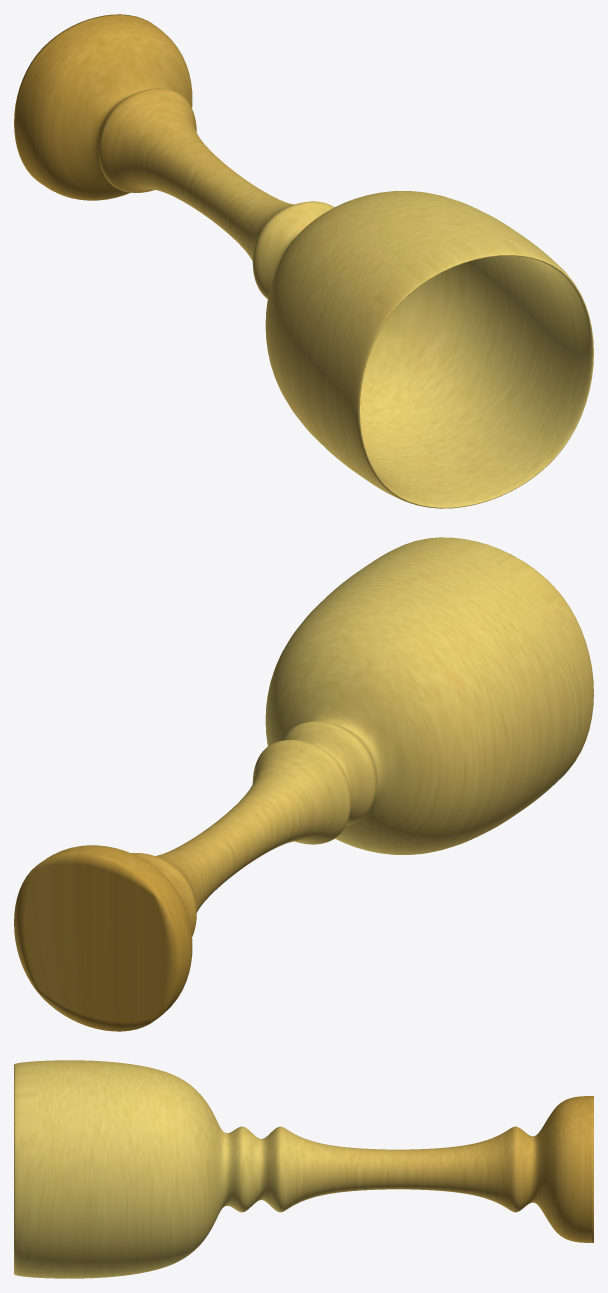
The model's file is Gablet.obj.
The picture shows the model from 3 angles, top to bottom: view 1: azimuth 30°, elevation 25°; view 2: azimuth 150°, elevation 25°; view 3: azimuth 270°, elevation 25°; orthographic projection. The views are drawn at different scales.
Visible parts, largest first — view 1: Goblet_Cube; view 2: Goblet_Cube; view 3: Goblet_Cube.
Part boxes in pixels (box(x1,y1,x2,y2)): Goblet_Cube: box(14, 14, 593, 508); Goblet_Cube: box(14, 537, 593, 1031); Goblet_Cube: box(14, 1060, 593, 1278).
Size of the model in its own units: 1 by 1 by 2.7.
1 material, 1 textured.
